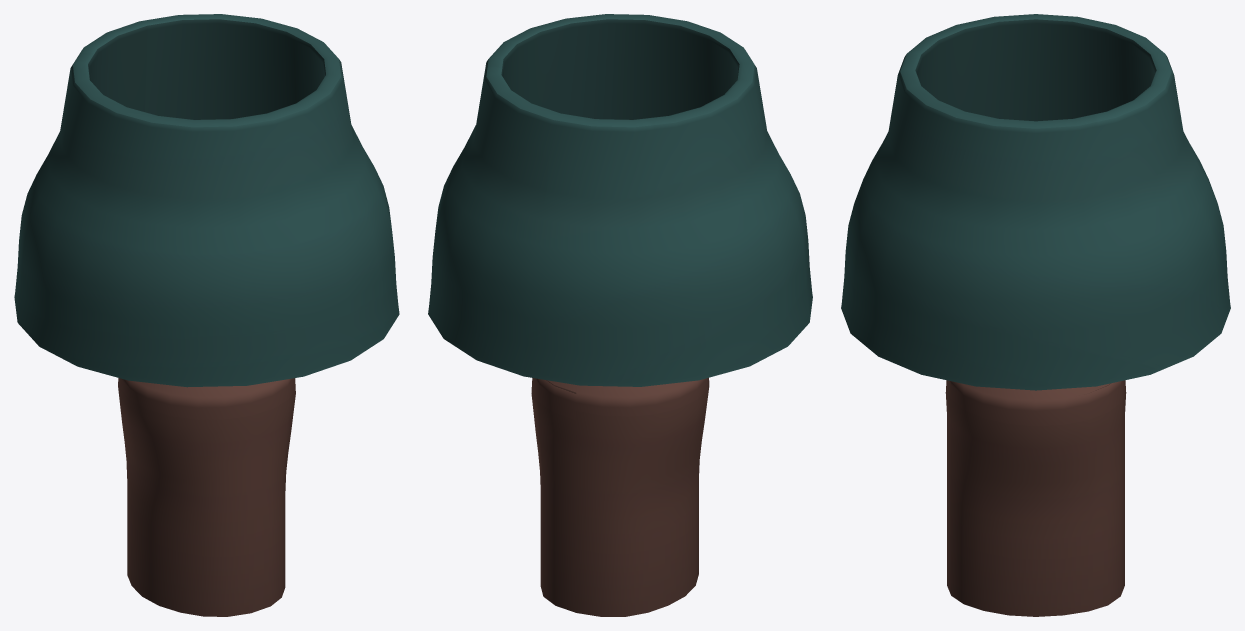
The model's file is lampe.fbx.
3 views of the same model, side by side, from view 1: azimuth 30°, elevation 25°; view 2: azimuth 150°, elevation 25°; view 3: azimuth 270°, elevation 25° (orthographic).
Visible parts, largest first — view 1: lampe; view 2: lampe; view 3: lampe.
Boxes of the visible parts, <box> form: lampe: <box>14,14,399,616</box>; lampe: <box>428,14,812,616</box>; lampe: <box>841,14,1230,616</box>.
Size of the model in its own units: 49.14 by 71.74 by 49.14.
